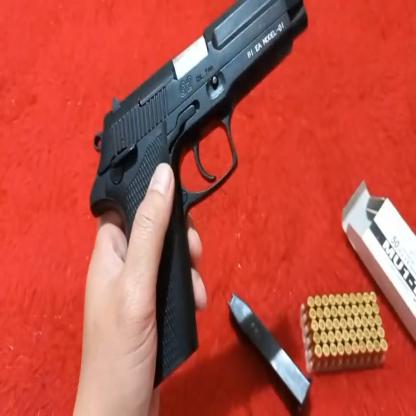handgun: (94, 5, 318, 394)
